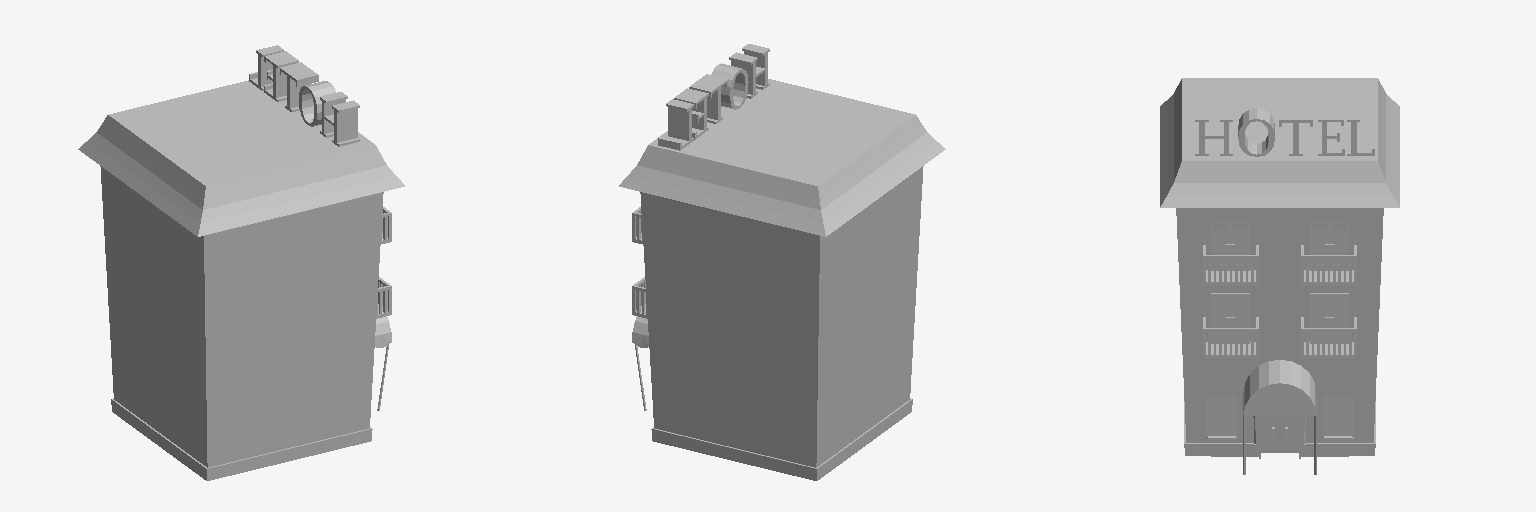
File: 3_CityB_HotelTall_v1.obj
3 views of the same model, side by side, from view 1: azimuth 30°, elevation 25°; view 2: azimuth 150°, elevation 25°; view 3: azimuth 270°, elevation 25° (orthographic).
Visible parts, largest first — view 1: CityB_TallHotel_mesh; view 2: CityB_TallHotel_mesh; view 3: CityB_TallHotel_mesh.
Part boxes in pixels (left/top/right/bottom): CityB_TallHotel_mesh: left=78, top=45, right=404, bottom=480; CityB_TallHotel_mesh: left=619, top=44, right=945, bottom=480; CityB_TallHotel_mesh: left=1160, top=78, right=1399, bottom=474.
Bounding box in the file's own units: 8.74 × 11.82 × 7.69.